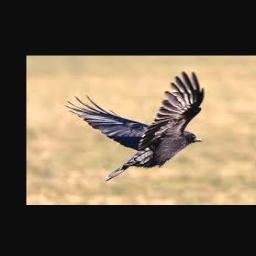Crow: (64, 71, 204, 181)
